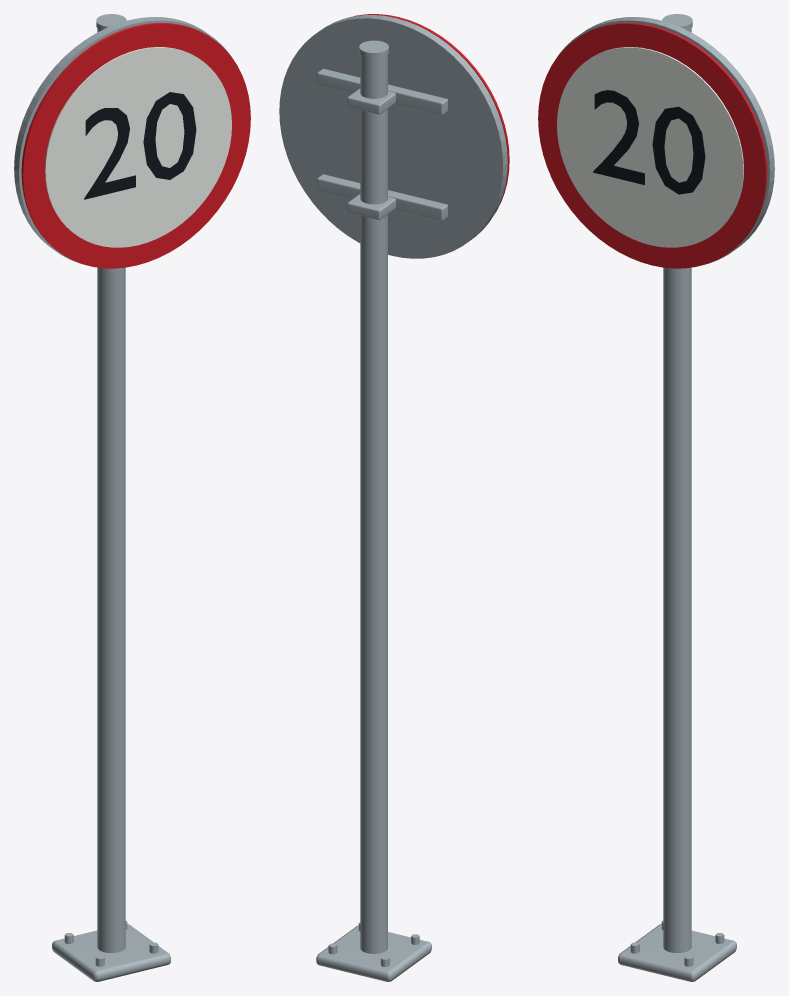
Rendered from DS_Sign_Speed20.fbx.
3 renders of one model, left to right at view 1: azimuth 30°, elevation 25°; view 2: azimuth 150°, elevation 25°; view 3: azimuth 330°, elevation 25°, orthographic. The views are drawn at different scales.
Parts seen in each view (by area): view 1: Face_Field.016, Post.023, Face_Border.016, Legend_20, BasePlate.023, Plate_Back.031; view 2: Plate_Back.031, Post.023, BasePlate.023, RearRail.050, RearRail.049, PostClamp.046, PostClamp.045, Face_Border.016; view 3: Face_Field.016, Post.023, Face_Border.016, Legend_20, BasePlate.023, Plate_Back.031.
Boxes of the visible parts, box(x1,y1,x2,y2) form: Face_Field.016: box(45, 47, 231, 247); Post.023: box(97, 28, 125, 952); Face_Border.016: box(21, 23, 250, 268); Legend_20: box(84, 92, 196, 199); BasePlate.023: box(52, 924, 170, 981); Plate_Back.031: box(14, 17, 230, 263); Plate_Back.031: box(279, 15, 507, 258); Post.023: box(360, 55, 387, 953); BasePlate.023: box(316, 925, 431, 981); RearRail.050: box(317, 68, 448, 115); RearRail.049: box(317, 174, 448, 220); PostClamp.046: box(347, 88, 395, 114); PostClamp.045: box(347, 194, 395, 219); Face_Border.016: box(354, 14, 509, 212); Face_Field.016: box(557, 47, 743, 247); Post.023: box(663, 28, 691, 952); Face_Border.016: box(538, 23, 767, 268); Legend_20: box(593, 90, 705, 194); BasePlate.023: box(618, 924, 736, 981); Plate_Back.031: box(558, 17, 774, 263).
Bounding box in the file's own units: 71 × 281 × 27.27.
